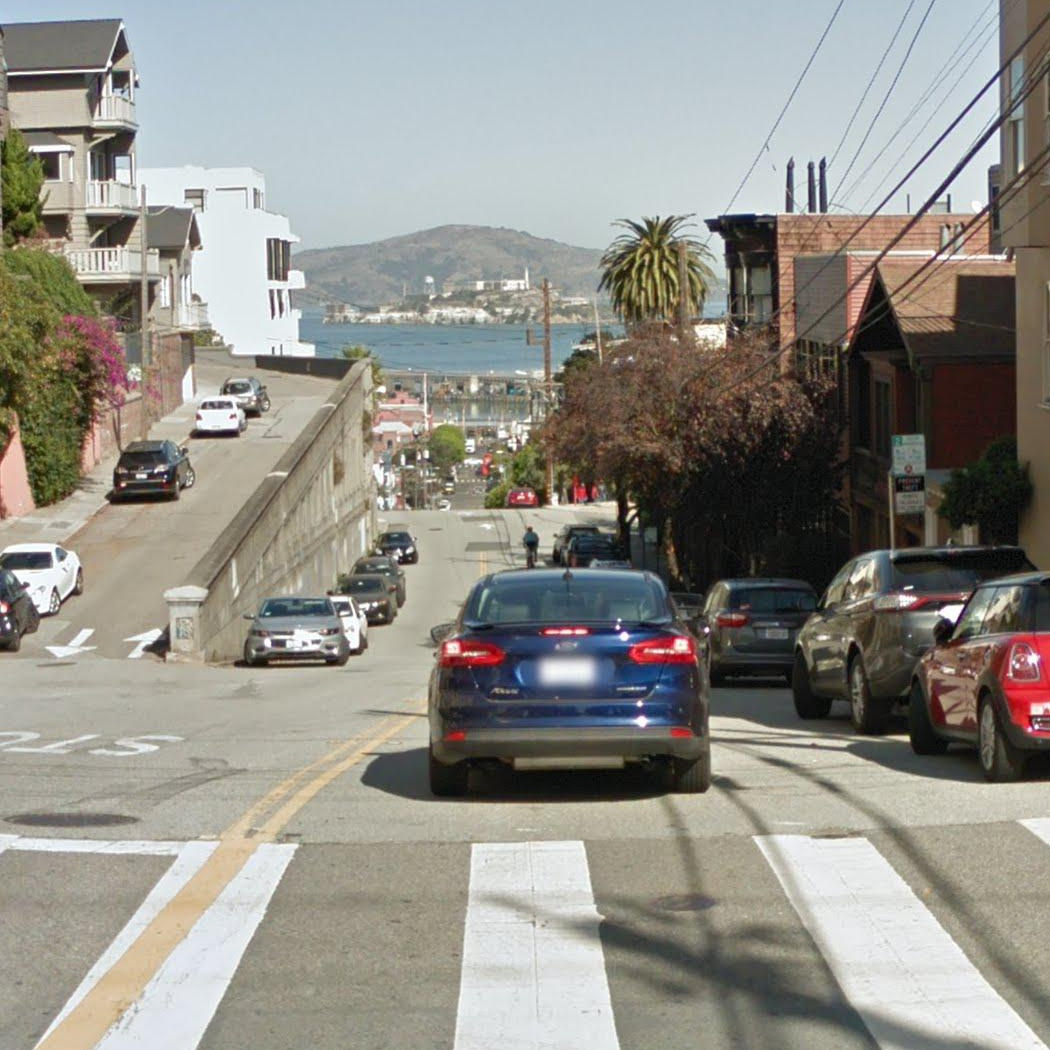2 Hour Parking: (889, 433, 928, 476)
